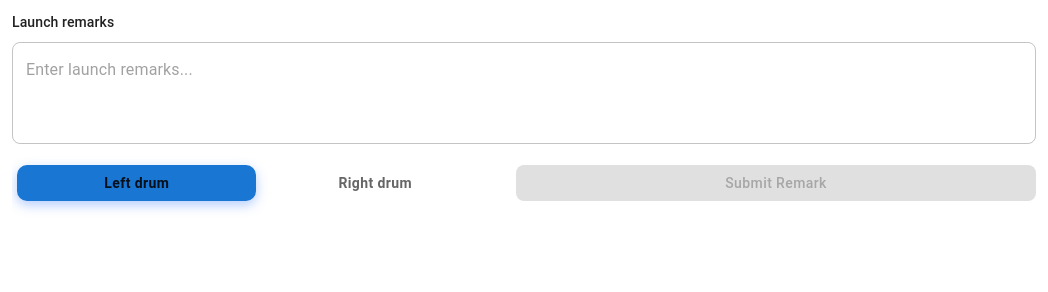
Test: RemarksPanel › blocks remarks starting with Repair
In the text box with placeholder "Enter launch remarks...": {"x": 524, "y": 93} x1=26 y1=58 x2=1022 y2=128, type "Repair: broken cable"
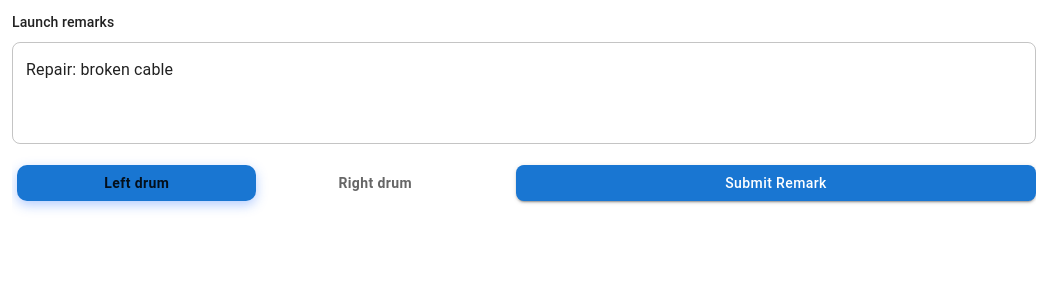
Click the button "Submit Remark": {"x": 776, "y": 183} x1=516 y1=165 x2=1036 y2=202
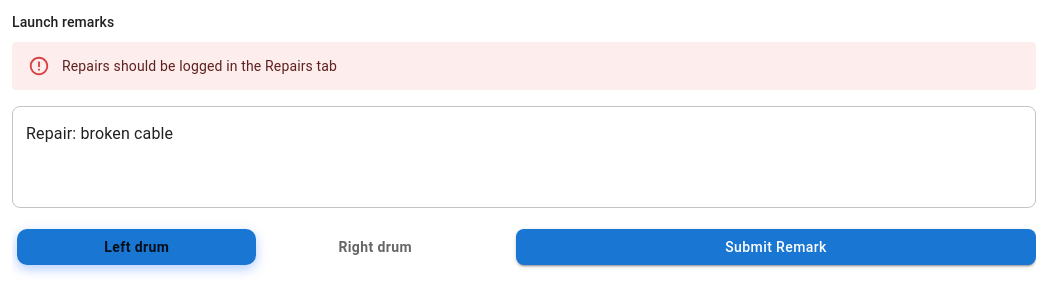
Check: the text "Repairs should be logged in the Repairs tab" is shown, box x1=62 y1=58 x2=337 y2=74
